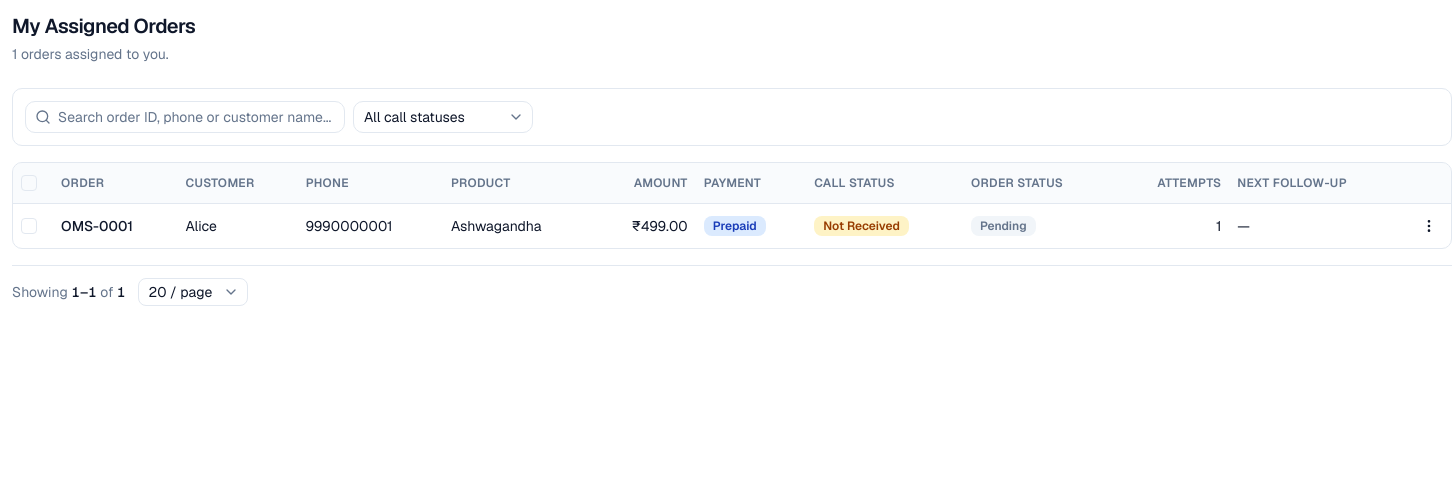
Test case: TelecallerOrdersPage › renders assigned orders with a quick-edit action menu per row
The image size is (1452, 502).
Expected: the text "Alice" is shown, [178,203,298,248]
Click the button named "Order actions" at (1429, 226), box [1415,212,1443,240]
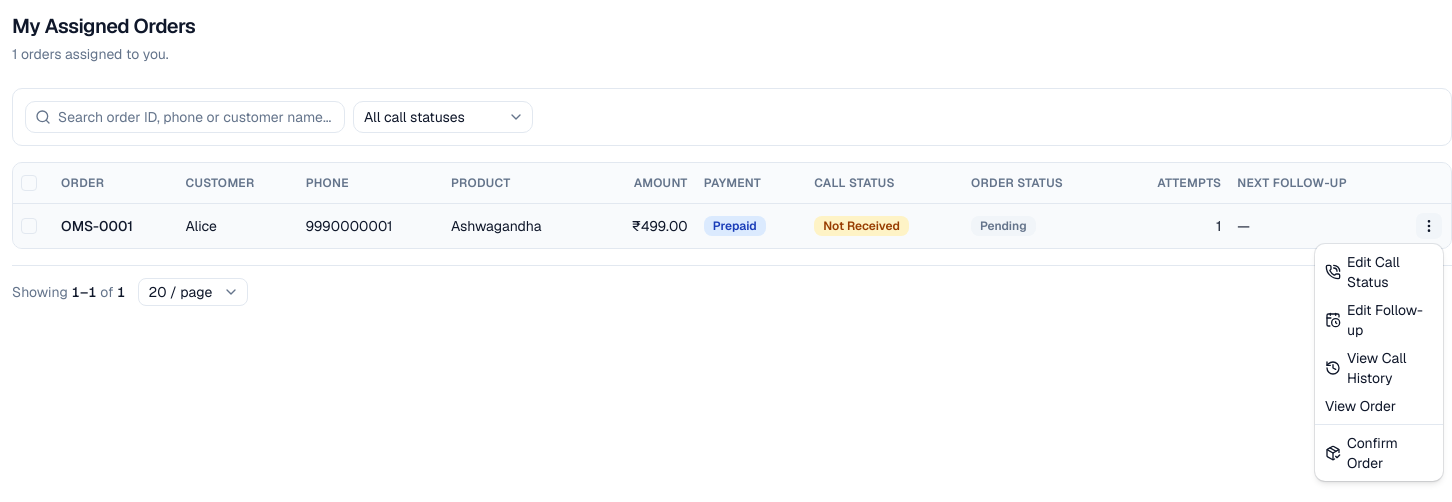
Result: the menu item "Edit Call Status" is shown at [1325,253,1400,291]
Result: the menu item "Edit Follow-up" is shown at [1325,301,1423,339]
Result: the menu item "View Call History" is shown at [1325,349,1406,387]
